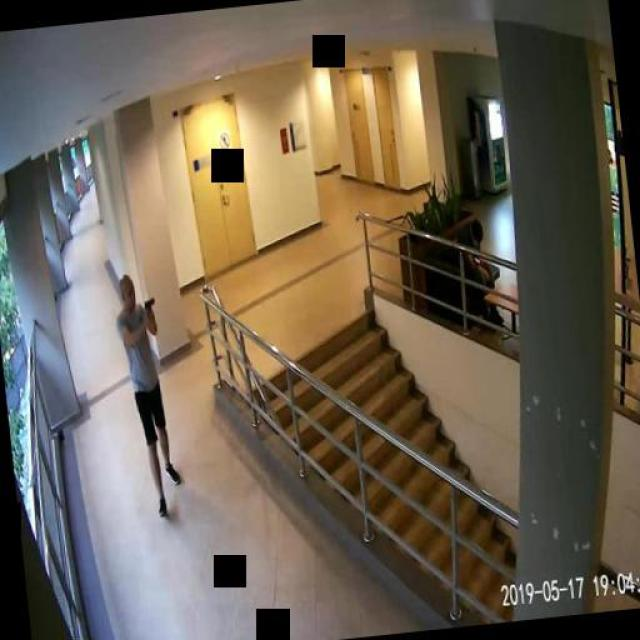gun: (143, 295, 155, 323)
